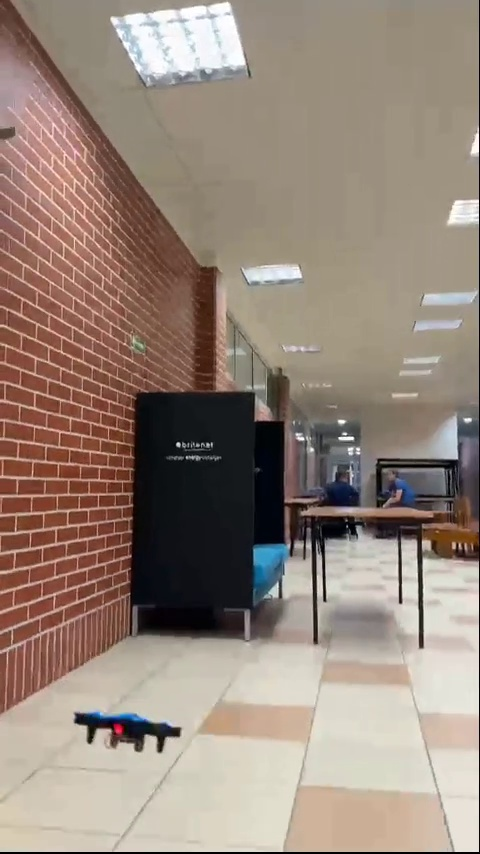drone: (79, 711, 188, 756)
no vest: (324, 470, 363, 515), (375, 467, 411, 508)
